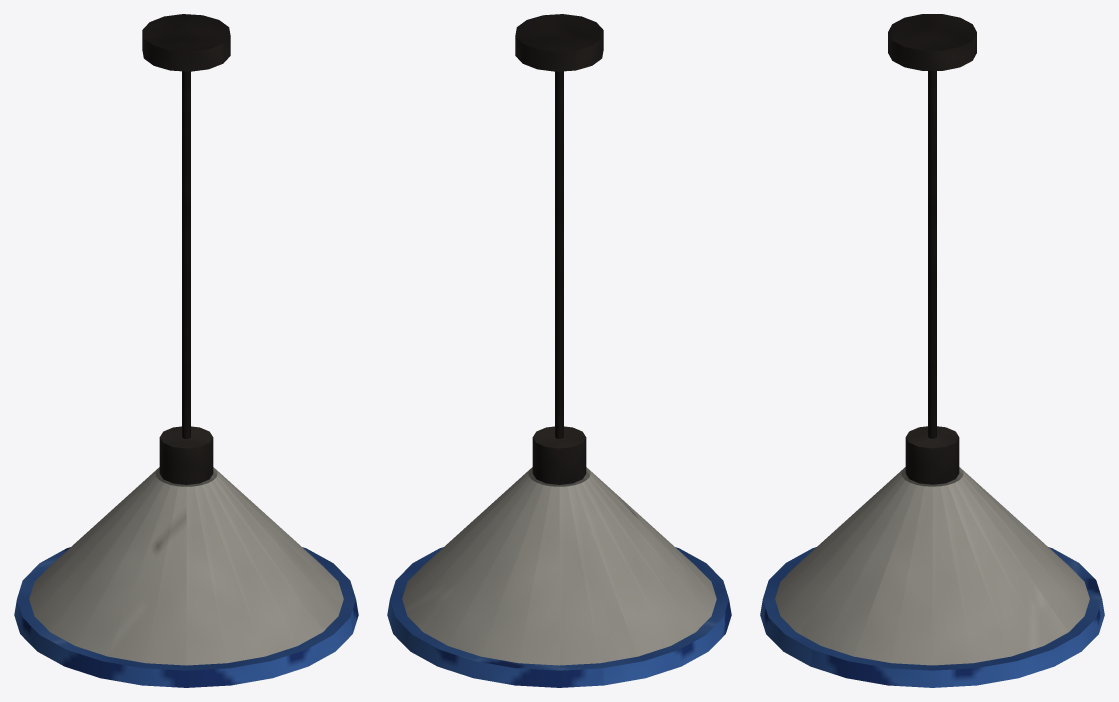
Rendered from ceiling_lamp.glb.
3 views of the same model, side by side, from view 1: azimuth 30°, elevation 25°; view 2: azimuth 150°, elevation 25°; view 3: azimuth 270°, elevation 25° (orthographic).
Visible parts, largest first — view 1: ceiling_lamp; view 2: ceiling_lamp; view 3: ceiling_lamp.
Boxes of the visible parts, left/top/right/bottom form: ceiling_lamp: left=14, top=14, right=358, bottom=687; ceiling_lamp: left=387, top=14, right=731, bottom=687; ceiling_lamp: left=760, top=14, right=1104, bottom=687.
Bounding box in the file's own units: 0.386 × 0.735 × 0.386.
Materials: 4 (3 with a texture image).
